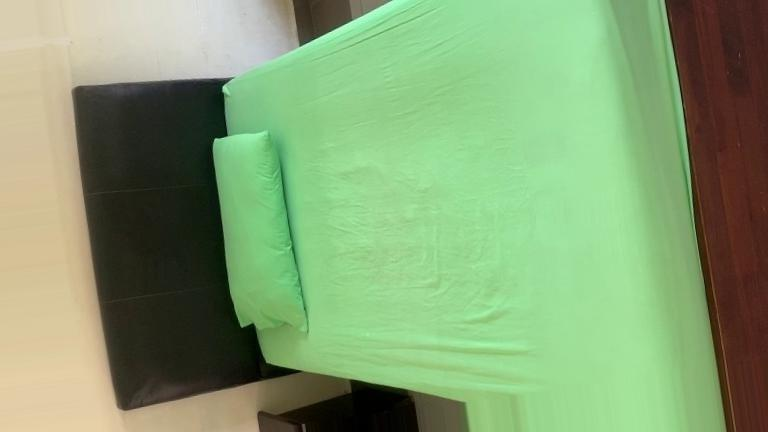bed: (47, 5, 768, 432)
table: (241, 394, 455, 432)
